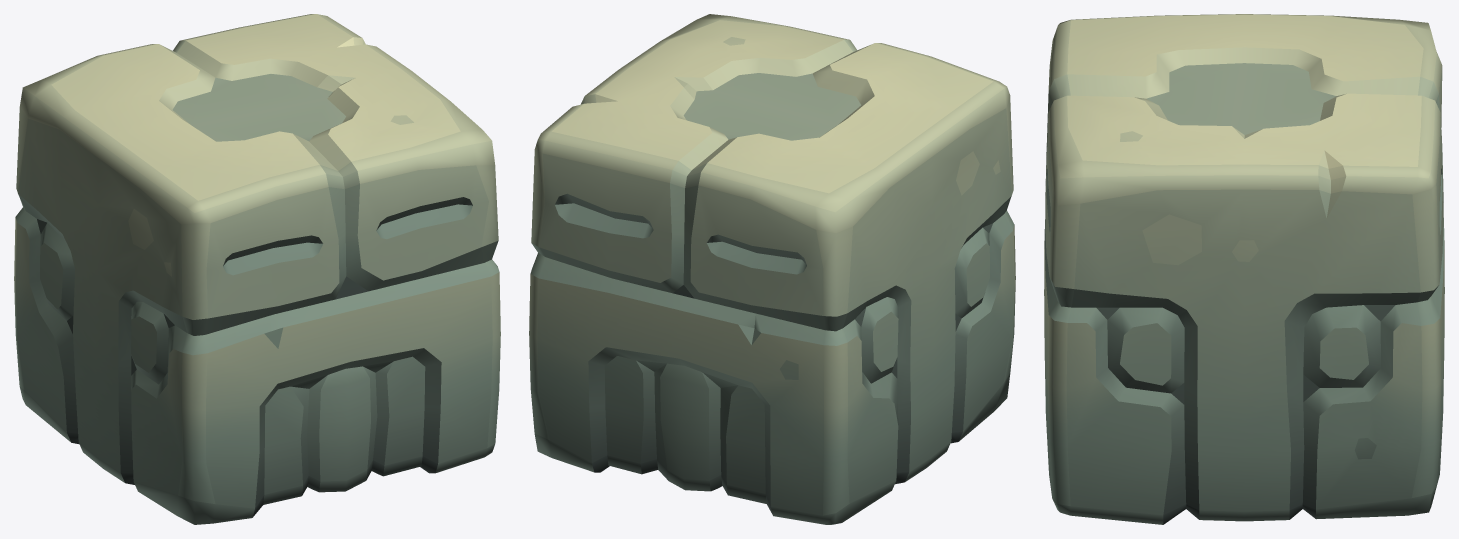
The model's file is block_stone_large5_LOD_group.fbx.
3 views of the same model, side by side, from view 1: azimuth 30°, elevation 25°; view 2: azimuth 150°, elevation 25°; view 3: azimuth 270°, elevation 25° (orthographic). The views are drawn at different scales.
Visible parts, largest first — view 1: block_stone_large5_LOD0; view 2: block_stone_large5_LOD0; view 3: block_stone_large5_LOD0.
Part boxes in pixels (<box>): block_stone_large5_LOD0: <box>14,14,500,524</box>; block_stone_large5_LOD0: <box>529,14,1015,524</box>; block_stone_large5_LOD0: <box>1044,14,1444,524</box>.
Size of what is drawn, in the model's own units: 217 by 220 by 218.
1 material, 1 textured.
